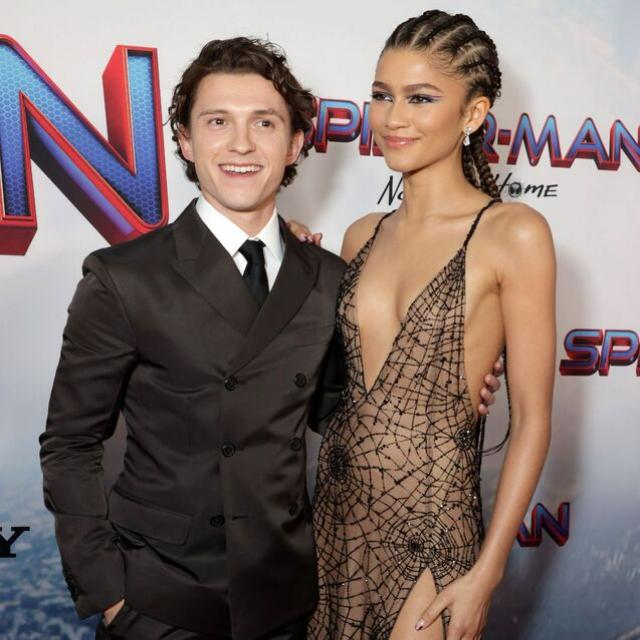Nonhelmet: (164, 34, 317, 210), (366, 8, 504, 199)
